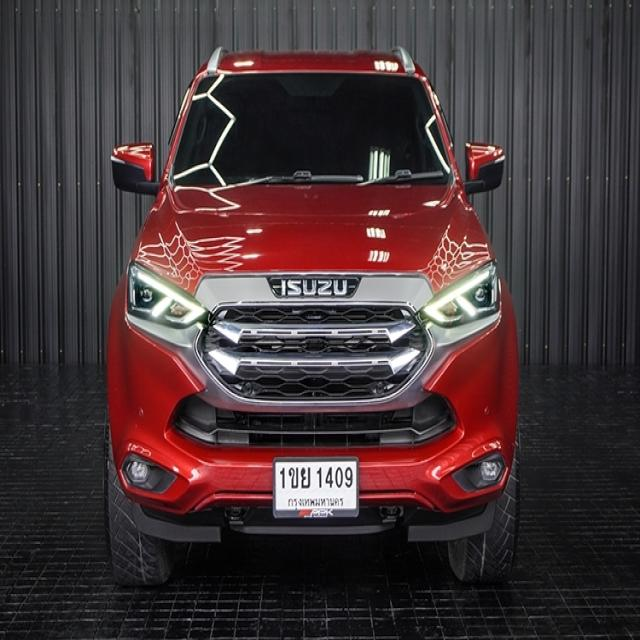license_plate: (272, 454, 361, 522)
